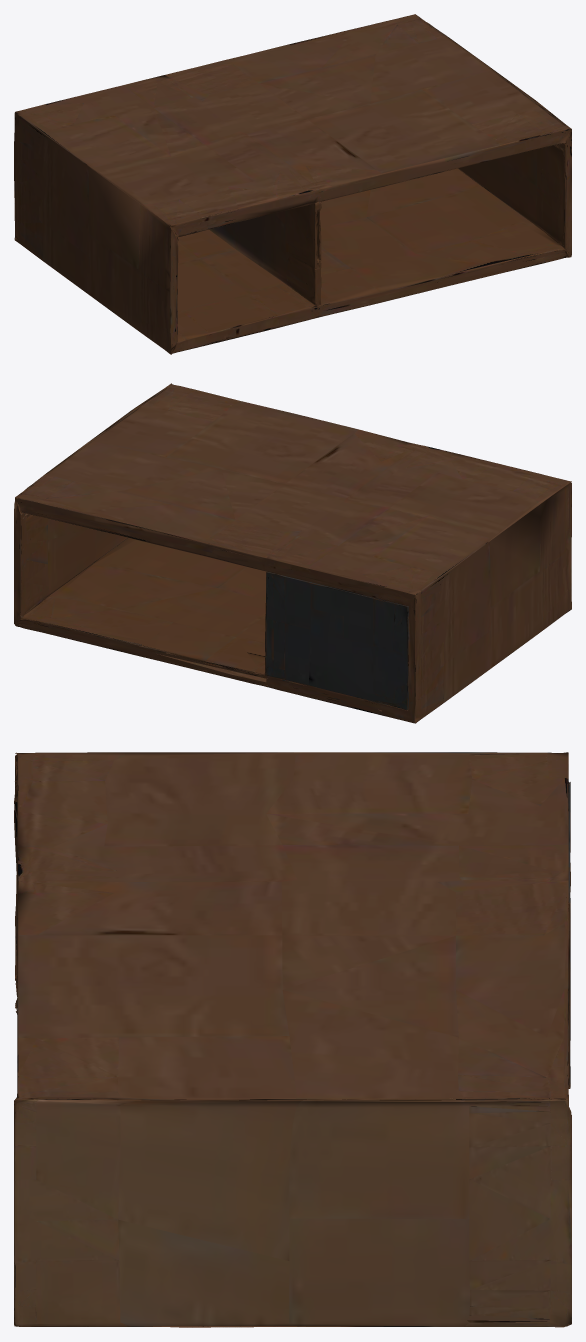
File: mobile.glb
3 views of the same model, one above another, from view 1: azimuth 30°, elevation 25°; view 2: azimuth 150°, elevation 25°; view 3: azimuth 270°, elevation 25° (orthographic). The views are drawn at different scales.
Parts seen in each view (by area): view 1: coffeetable; view 2: coffeetable; view 3: coffeetable.
Boxes of the visible parts, <box> form: coffeetable: <box>14,14,571,354</box>; coffeetable: <box>14,383,571,723</box>; coffeetable: <box>14,752,571,1327</box>.
Size of the model in its own units: 1.05 by 0.3219 by 0.7074.
1 material, 1 textured.
